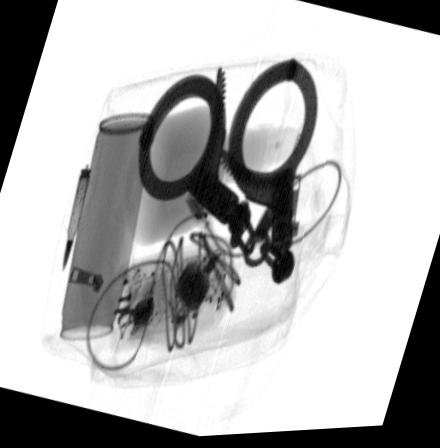Bullet: (62, 171, 91, 273)
HandCuffs: (137, 60, 314, 289)
